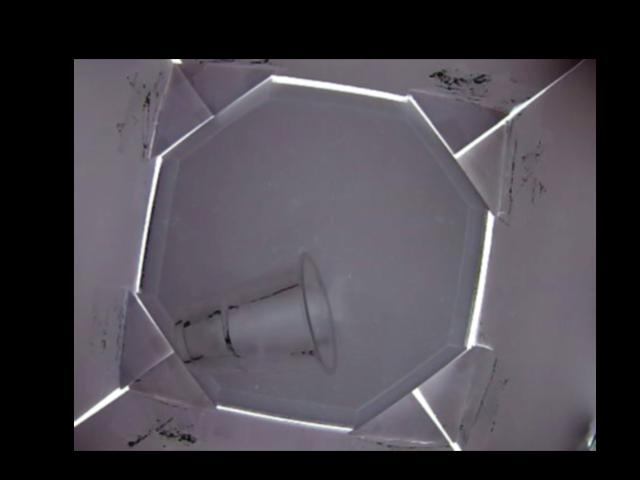Cup: (170, 250, 337, 375)
